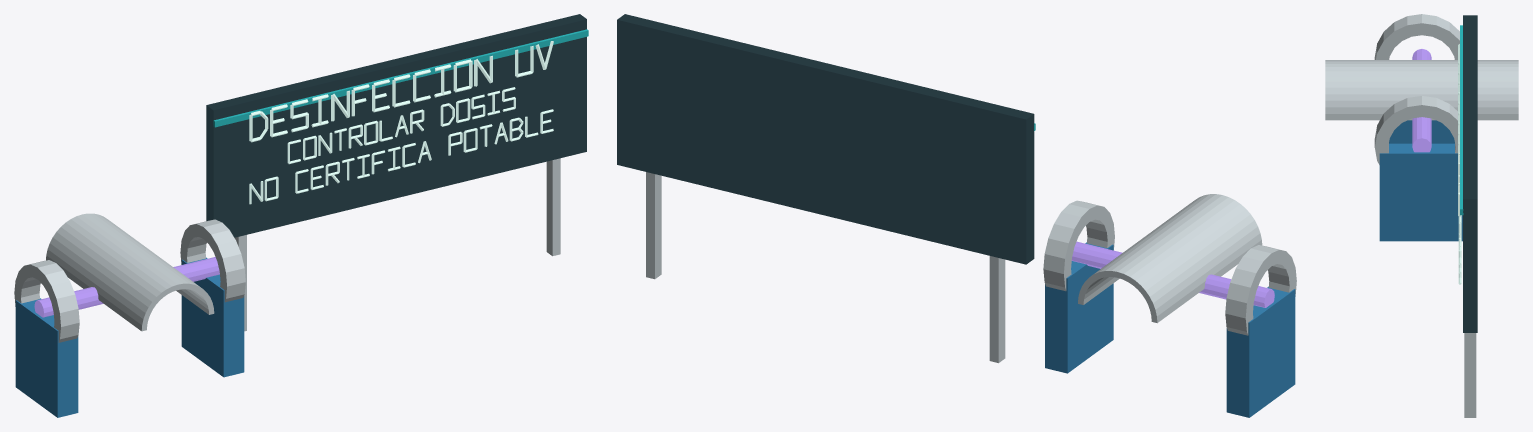
Rendered from AQUA-015.glb.
The picture shows the model from 3 angles, left to right: view 1: azimuth 30°, elevation 25°; view 2: azimuth 150°, elevation 25°; view 3: azimuth 270°, elevation 25°; orthographic projection. The views are drawn at different scales.
Parts seen in each view (by area): view 1: AQUA-015; view 2: AQUA-015; view 3: AQUA-015.
Boxes of the visible parts, <box> form: AQUA-015: <box>14,14,588,417</box>; AQUA-015: <box>617,14,1296,417</box>; AQUA-015: <box>1325,14,1518,417</box>.
Size of the model in its own units: 5.5 by 2.11 by 1.6.
